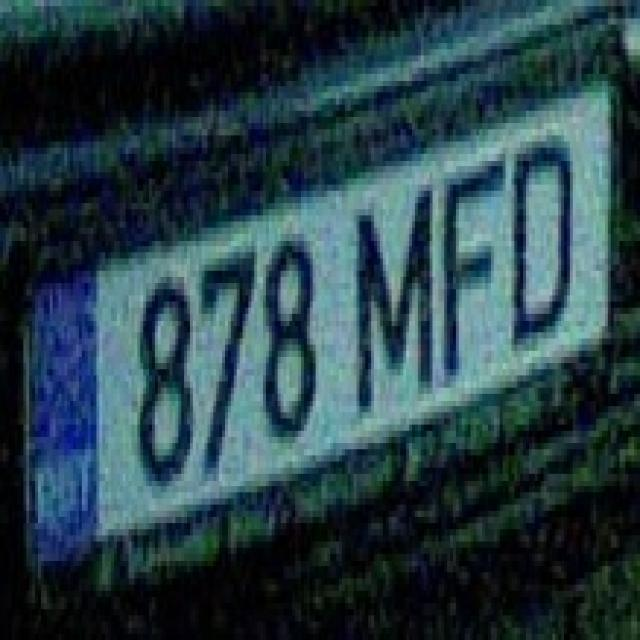licenseplate: (19, 99, 612, 562)
